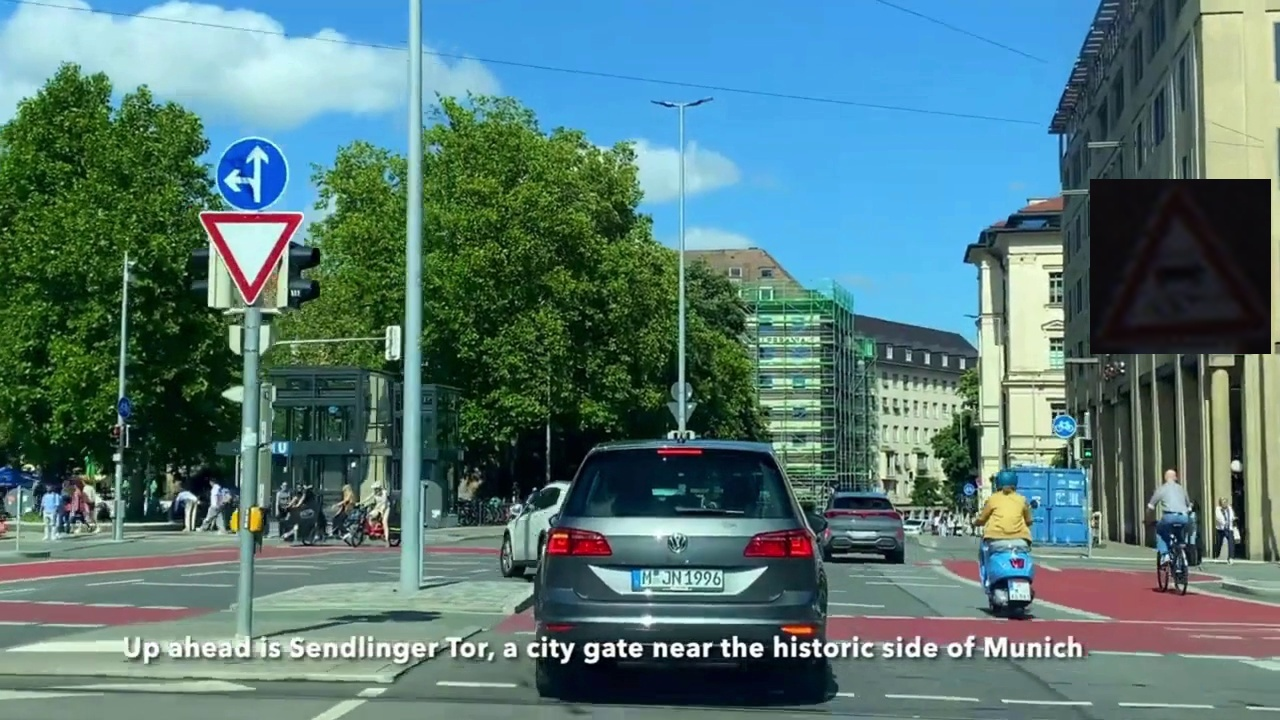Slippery: (1090, 179, 1271, 354)
